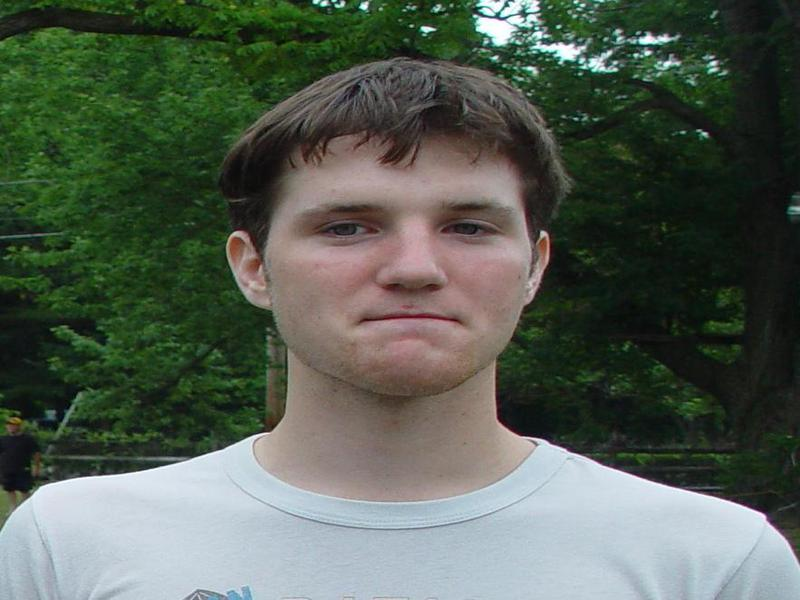person: (13, 58, 793, 599)
